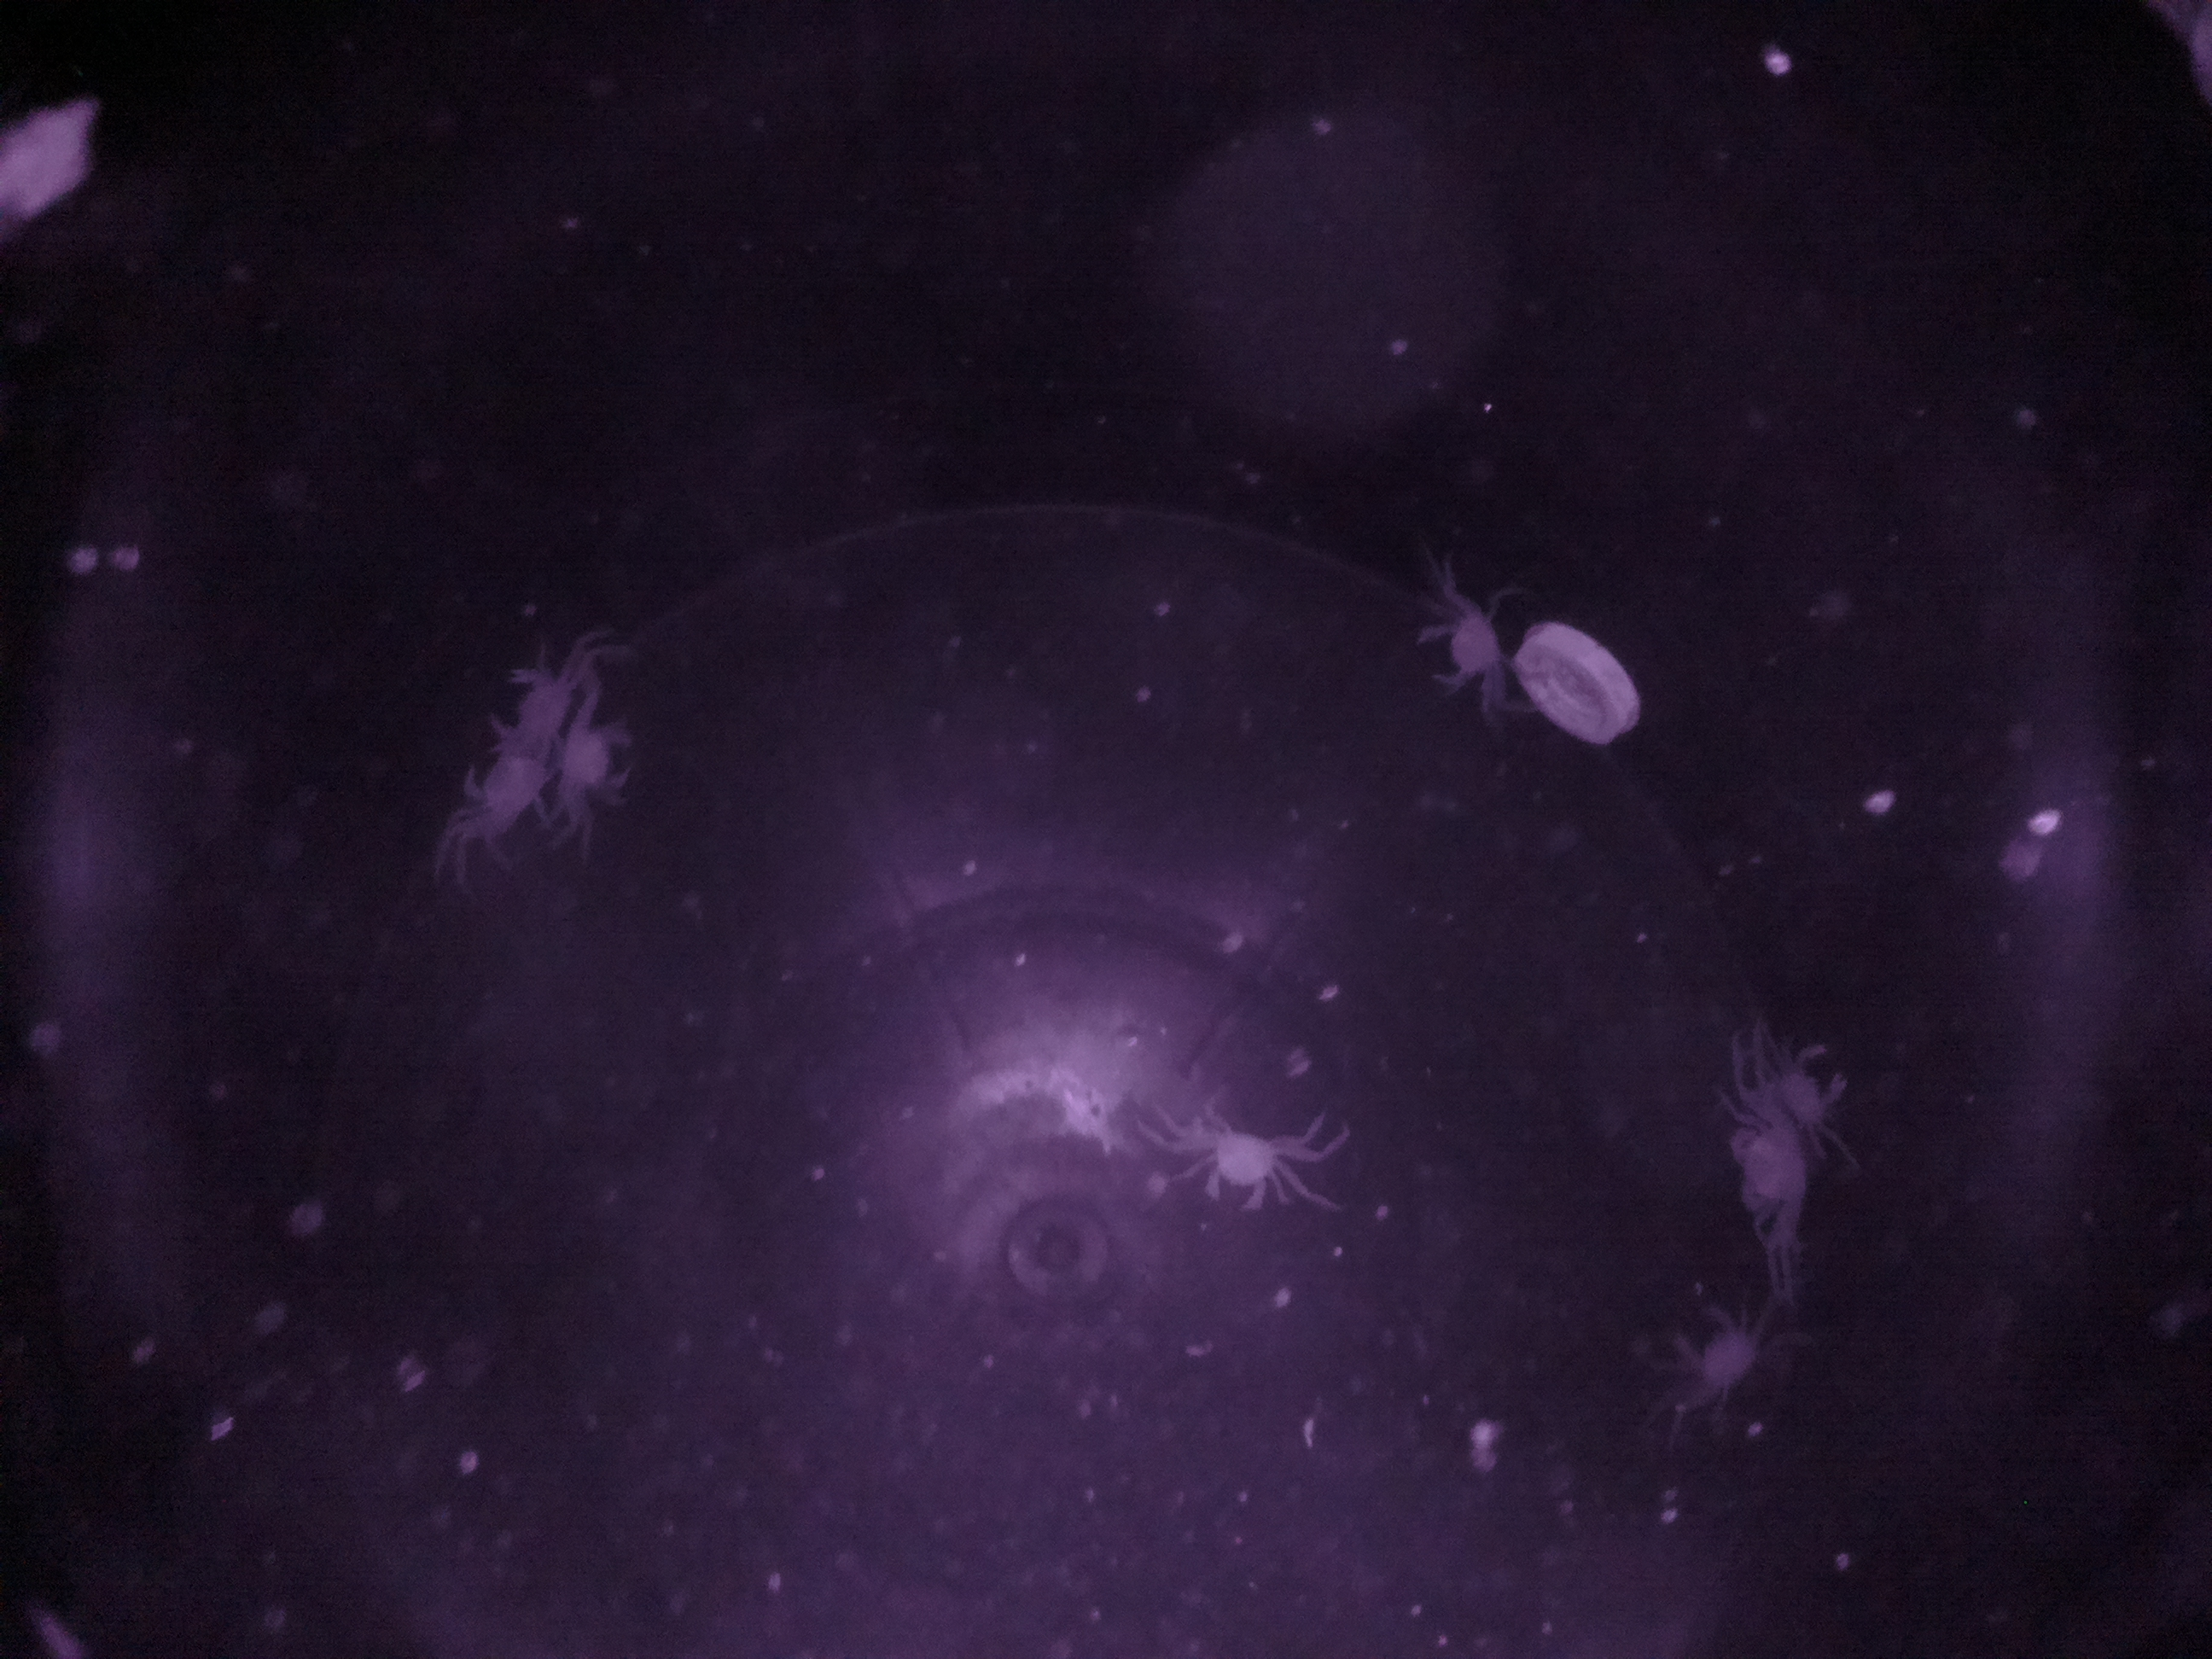Crab: (1716, 1110, 1848, 1232), (1393, 599, 1519, 709), (1179, 1105, 1296, 1220)
